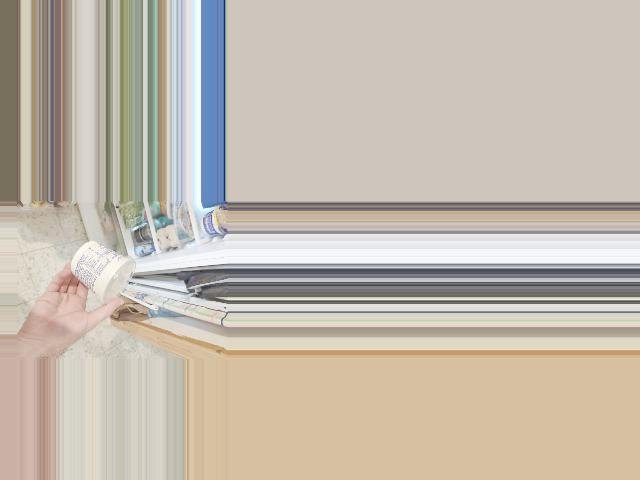cotage: (68, 247, 131, 309)
